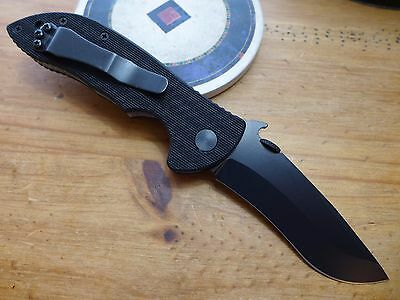knief: (5, 8, 391, 285)
